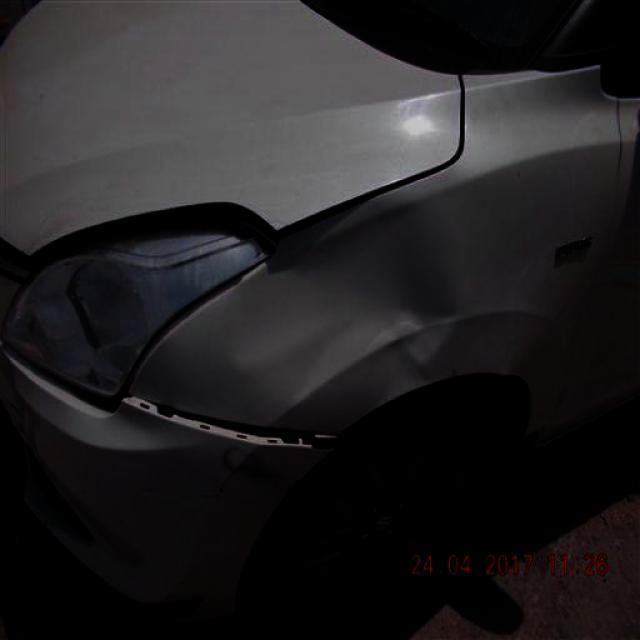car damage: (340, 196, 464, 378), (118, 388, 339, 453), (217, 443, 298, 500)
